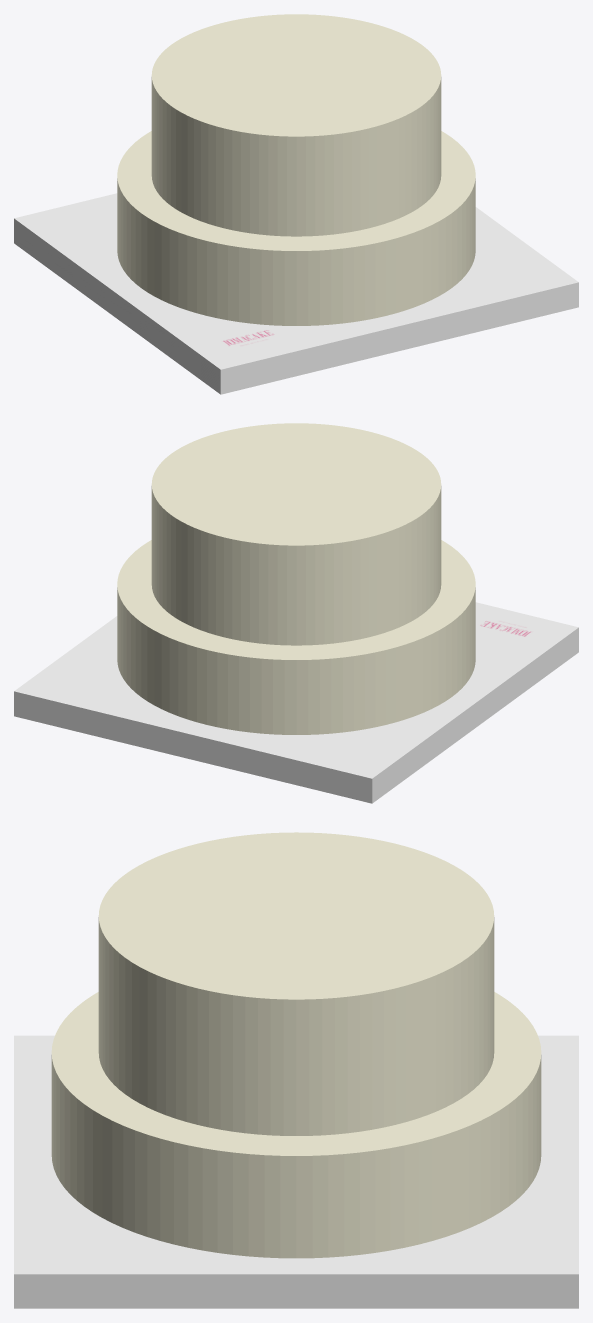
Rendered from cake_tier2_10-8_layers2_v33.glb.
3 renders of one model, top to bottom at view 1: azimuth 30°, elevation 25°; view 2: azimuth 150°, elevation 25°; view 3: azimuth 270°, elevation 25°, orthographic. The views are drawn at different scales.
Parts seen in each view (by area): view 1: Tier1, Tier0, Board, Logo; view 2: Tier1, Tier0, Board, Logo; view 3: Tier1, Tier0, Board.
Part boxes in pixels (x1,y1,x2,y2): Tier1: (151, 14, 441, 236); Tier0: (117, 131, 475, 325); Board: (14, 193, 578, 394); Logo: (213, 326, 286, 352); Tier1: (151, 423, 441, 645); Tier0: (117, 540, 475, 734); Board: (14, 602, 578, 803); Logo: (475, 614, 544, 640); Tier1: (98, 832, 494, 1135); Tier0: (51, 992, 541, 1258); Board: (14, 1035, 578, 1308).
Size of the model in its own units: 0.3 by 0.16 by 0.3.
